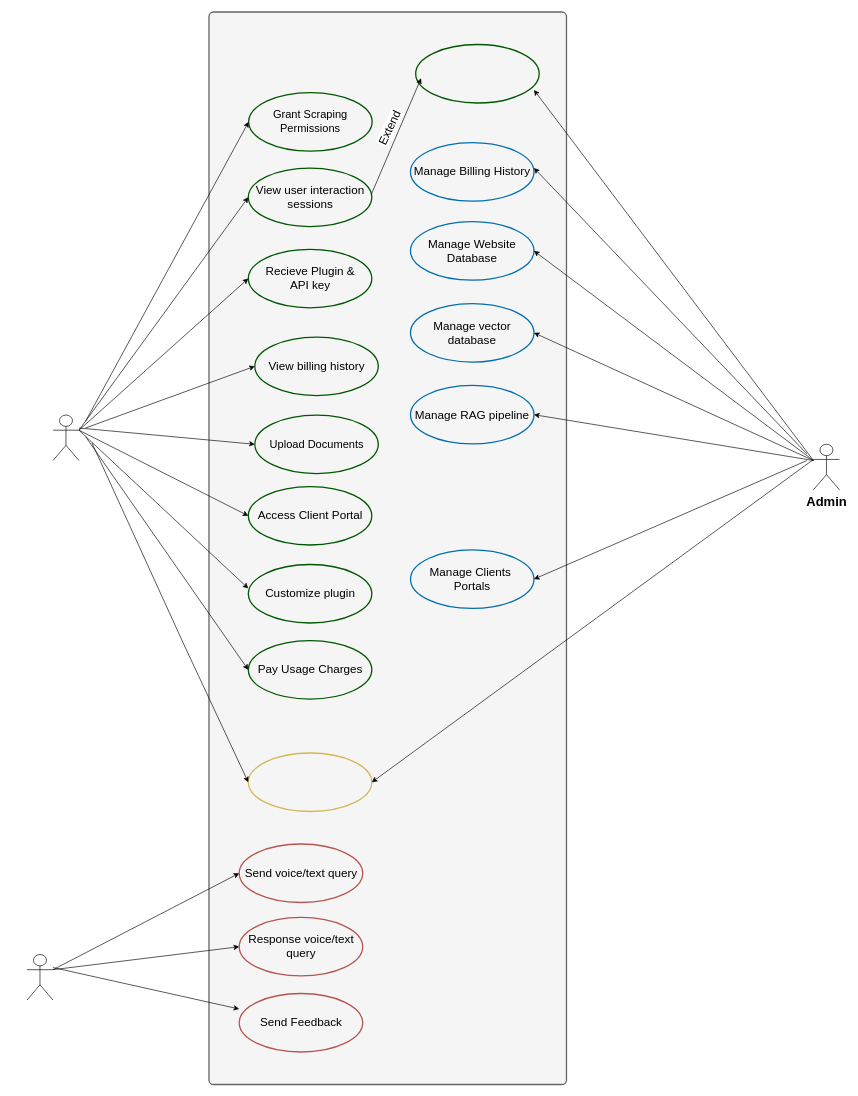
Image size: 858x1096. Some labels were removed from this diagram. The centre of each missing label's shape, as x and y in pixels:
Client: (65,437)
End User: (39,977)
Flag Wrong Responses: (477,73)
View User Feedback: (309,782)
